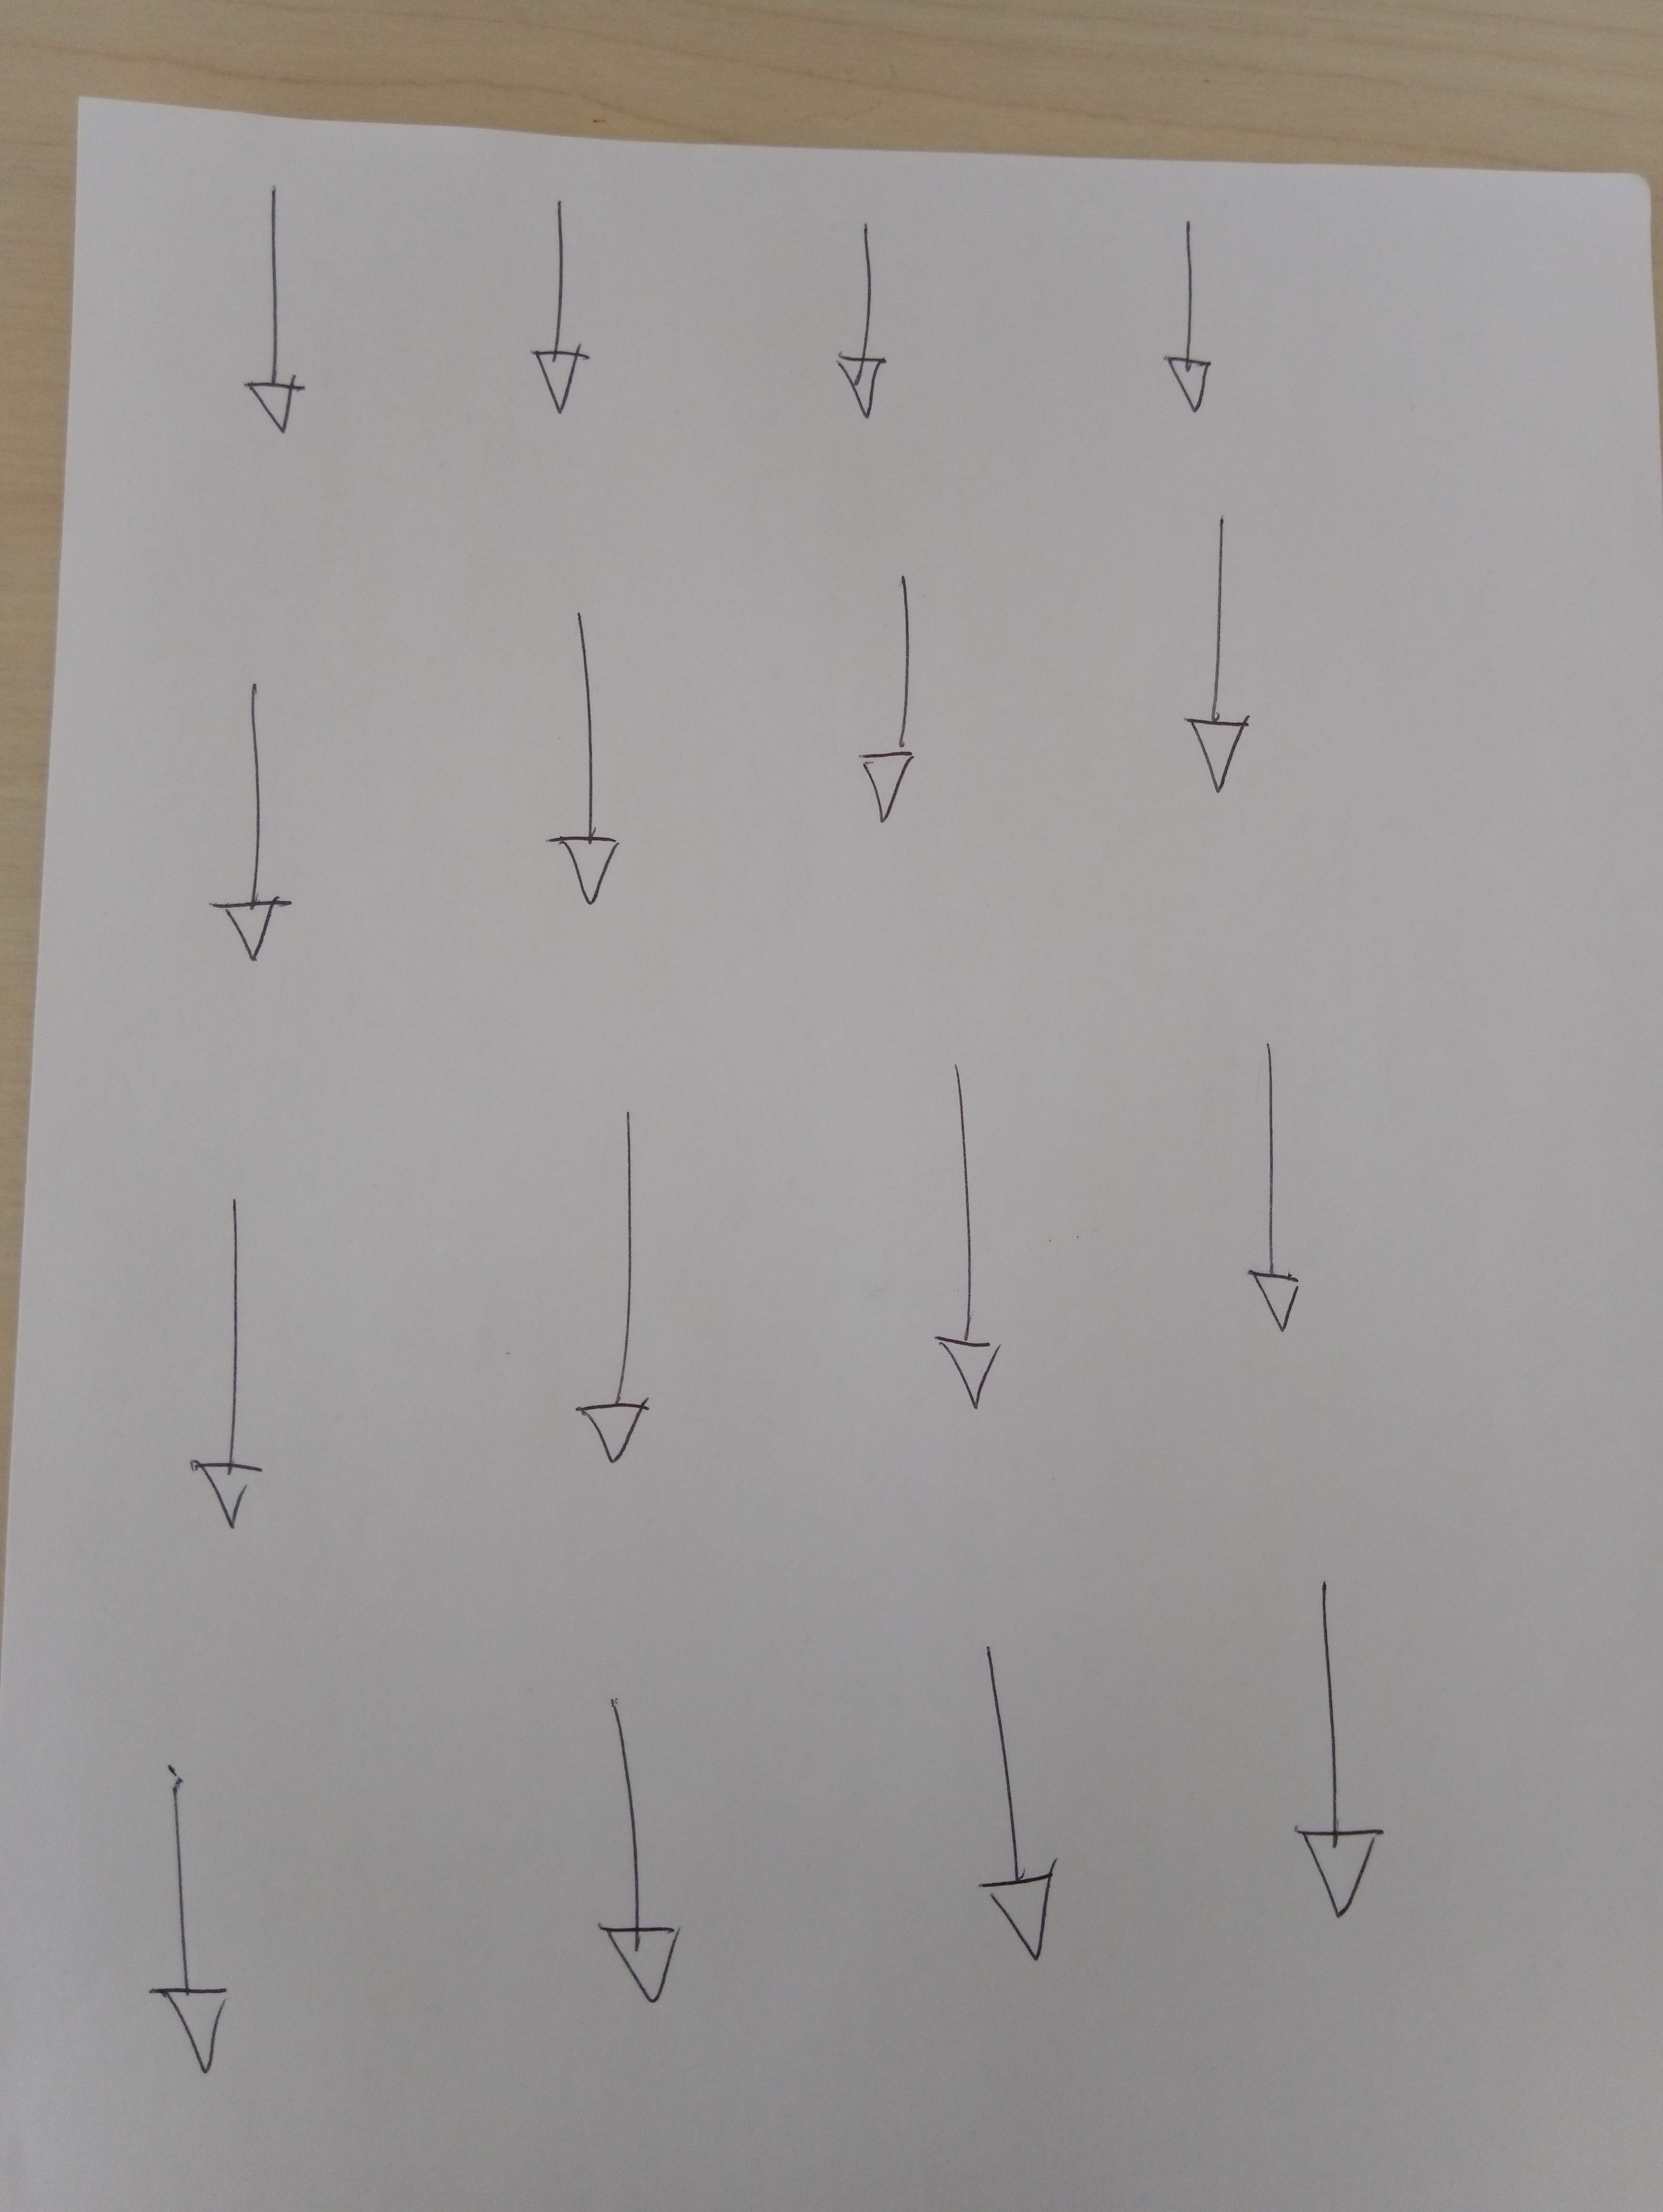arrow_line_down: (566, 1688, 697, 2018), (954, 1638, 1074, 1975), (173, 1205, 283, 1547), (917, 1088, 1024, 1435), (140, 1758, 246, 2095), (1296, 1568, 1394, 1931), (566, 1124, 667, 1472), (1211, 1051, 1324, 1325), (547, 601, 646, 904), (210, 684, 297, 974), (224, 175, 313, 457), (1186, 508, 1266, 801), (517, 189, 613, 428), (851, 567, 936, 824), (833, 204, 914, 438), (1149, 222, 1240, 428)
